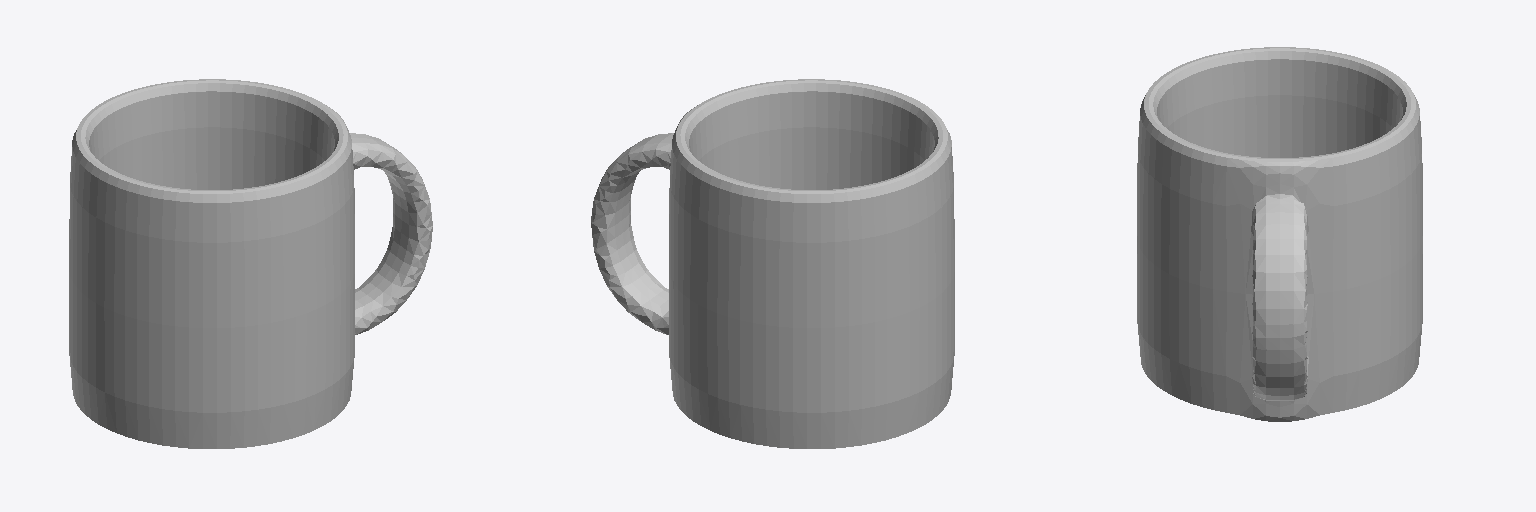
The model's file is mug.obj.
The picture shows the model from 3 angles: view 1: azimuth 30°, elevation 25°; view 2: azimuth 150°, elevation 25°; view 3: azimuth 270°, elevation 25°; orthographic projection.
Visible parts, largest first — view 1: Cylinder; view 2: Cylinder; view 3: Cylinder.
Part boxes in pixels (x1,y1,x2,y2): Cylinder: (69, 79, 432, 448); Cylinder: (591, 79, 954, 448); Cylinder: (1137, 47, 1422, 421).
Size of the model in its own units: 2.69 by 2 by 1.98.